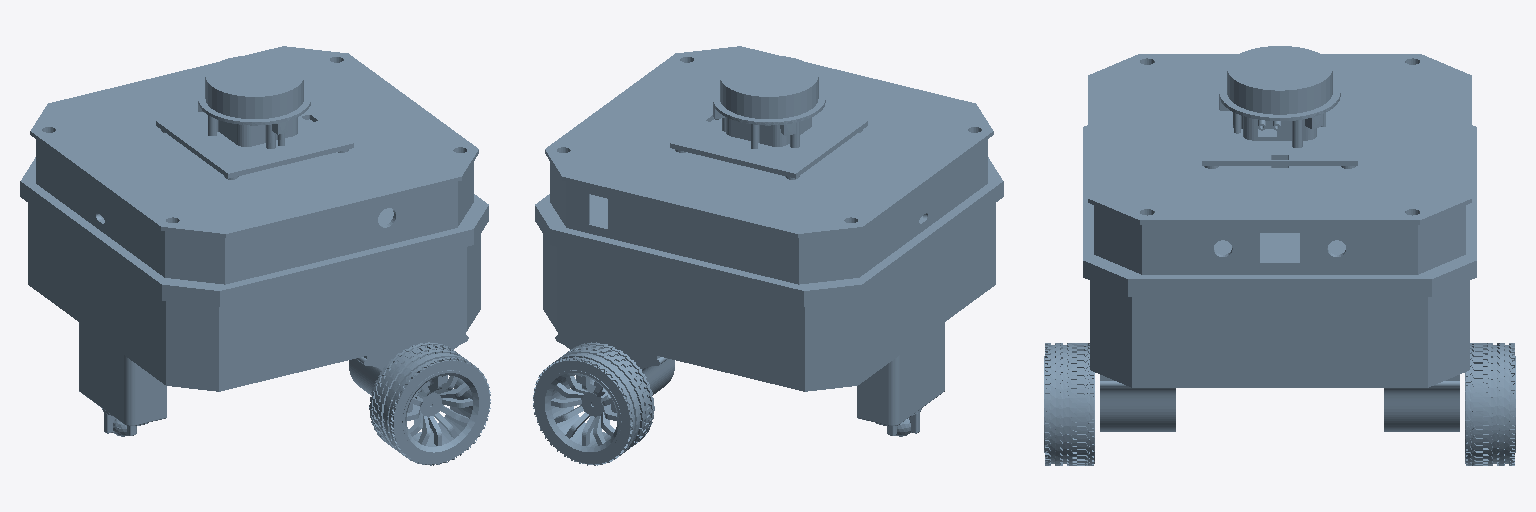
The robot description file, URDF, robot "auto_dir":
<?xml version="1.0"?>
<!-- auto_dir: generated by URDF Forge 2026-11-26T15:17:13.405Z
     Target: ROS 2 Jazzy · Gazebo Harmonic
     REP 103: Z-up, metres, kilograms, radians. -->
<robot name="auto_dir">
  <material name="default"><color rgba="0.56 0.65 0.73 1"/></material>

  <link name="Octagonal_inspection_chassis">
    <inertial>
      <origin xyz="-0.00000554286 0.00002933278 -0.01421982468" rpy="0 0 0"/>
      <mass value="0.30936684924947399"/>
      <inertia ixx="0.0015275418177565920410156" ixy="-0.0000008571532577619526386" ixz="-0.0000002265495691636525989" iyy="0.0016575954131242353515625" iyz="0.0000001203555851159259528" izz="0.0029549417436531005859375"/>
    </inertial>
    <visual name="Octagonal_inspection_chassis_visual">
      <origin xyz="0 0 -0.047" rpy="0 0 0"/>
      <geometry><mesh filename="package://auto_dir_description/meshes/Octagonal_inspection_chassis.stl" scale="0.001 0.001 0.001"/></geometry>
      <material name="default"/>
    </visual>
    <collision name="Octagonal_inspection_chassis_collision">
      <origin xyz="0 0 0" rpy="0 0 0"/>
      <geometry><box size="0.206 0.2 0.062"/></geometry>
    </collision>
  </link>

  <link name="Octagonal_service_cover_with_projecting_roof_edge">
    <inertial>
      <origin xyz="-0.00129910941 -0.00046143565 0.00852465101" rpy="0 0 0"/>
      <mass value="0.16927888964498931"/>
      <inertia ixx="0.0007426952700377515869141" ixy="0.000005208195678570148468" ixz="-0.0000019512042894255459309" iyy="0.0007931072218634862060547" iyz="-0.0000008478865311748096943" izz="0.0015021906635568205566406"/>
    </inertial>
    <visual name="Octagonal_service_cover_with_projecting_roof_edge_visual">
      <origin xyz="0 0 -0.0975" rpy="0 0 0"/>
      <geometry><mesh filename="package://auto_dir_description/meshes/Octagonal_service_cover_with_projecting_roof_edge.stl" scale="0.001 0.001 0.001"/></geometry>
      <material name="default"/>
    </visual>
    <collision name="Octagonal_service_cover_with_projecting_roof_edge_collision">
      <origin xyz="0 0 0" rpy="0 0 0"/>
      <geometry><box size="0.208 0.202 0.033"/></geometry>
    </collision>
  </link>
  <joint name="Octagonal_service_cover_with_projecting_roof_edge_joint" type="fixed">
    <parent link="Octagonal_inspection_chassis"/>
    <child link="Octagonal_service_cover_with_projecting_roof_edge"/>
    <origin xyz="0 0 0.0505" rpy="0 0 0"/>
  </joint>

  <link name="Octagonal_deck_with_overlapping_drip_skirt">
    <inertial>
      <origin xyz="-0.00200911969 0 -0.00098056889" rpy="0 0 0"/>
      <mass value="0.15026572302505878"/>
      <inertia ixx="0.0005690116258245833740234" ixy="0.0000000000000000000029196" ixz="0.0000012917236011896309853" iyy="0.0006247117414282354736328" iyz="0.0000000000000000000004923" izz="0.0011923654385640375976563"/>
    </inertial>
    <visual name="Octagonal_deck_with_overlapping_drip_skirt_visual">
      <origin xyz="0 0 -0.08" rpy="0 0 0"/>
      <geometry><mesh filename="package://auto_dir_description/meshes/Octagonal_deck_with_overlapping_drip_skirt.stl" scale="0.001 0.001 0.001"/></geometry>
      <material name="default"/>
    </visual>
    <collision name="Octagonal_deck_with_overlapping_drip_skirt_collision">
      <origin xyz="0 0 0" rpy="0 0 0"/>
      <geometry><box size="0.214 0.208 0.018"/></geometry>
    </collision>
  </link>
  <joint name="Octagonal_deck_with_overlapping_drip_skirt_joint" type="fixed">
    <parent link="Octagonal_inspection_chassis"/>
    <child link="Octagonal_deck_with_overlapping_drip_skirt"/>
    <origin xyz="0 0 0.033" rpy="0 0 0"/>
  </joint>

  <link name="_mm_wheel_left_layout">
    <inertial>
      <origin xyz="0.00000159847 -0.00013373383 -0.00000004672" rpy="0 0 0"/>
      <mass value="0.04755457729835925"/>
      <inertia ixx="0.0000194808089655183944702" ixy="-0.0000000001446657646665155" ixz="-0.0000000000294143313422865" iyy="0.0000338747148996596412659" iyz="0.0000000000037501877010495" izz="0.0000194823515448866081238"/>
    </inertial>
    <visual name="_mm_wheel_left_layout_visual">
      <origin xyz="-0.05079001427 -0.111 0.01800000048" rpy="0 0 0"/>
      <geometry><mesh filename="package://auto_dir_description/meshes/_mm_wheel_left_layout.stl" scale="0.001 0.001 0.001"/></geometry>
      <material name="default"/>
    </visual>
    <collision name="_mm_wheel_left_layout_collision">
      <origin xyz="0 0 0" rpy="0 0 0"/>
      <geometry><box size="0.06499992371 0.0263999939 0.06499986267"/></geometry>
    </collision>
  </link>
  <joint name="_mm_wheel_left_layout_joint" type="fixed">
    <parent link="Octagonal_inspection_chassis"/>
    <child link="_mm_wheel_left_layout"/>
    <origin xyz="0.05079001427 0.111 -0.06500000048" rpy="3.14159265359 0 0"/>
  </joint>

  <link name="_mm_wheel_right_layout">
    <inertial>
      <origin xyz="-0.00000158645 0.00013373103 -0.00000005211" rpy="0 0 0"/>
      <mass value="0.04755455974073744"/>
      <inertia ixx="0.0000194808016947012405396" ixy="-0.0000000001486557639223421" ixz="0.0000000000220590386899883" iyy="0.0000338746969471223640442" iyz="-0.0000000000035285423048459" izz="0.0000194823343623401184082"/>
    </inertial>
    <visual name="_mm_wheel_right_layout_visual">
      <origin xyz="-0.05078998375 0.111 0.01800000048" rpy="0 0 0"/>
      <geometry><mesh filename="package://auto_dir_description/meshes/_mm_wheel_right_layout.stl" scale="0.001 0.001 0.001"/></geometry>
      <material name="default"/>
    </visual>
    <collision name="_mm_wheel_right_layout_collision">
      <origin xyz="0 0 0" rpy="0 0 0"/>
      <geometry><box size="0.06499992371 0.0263999939 0.06499986267"/></geometry>
    </collision>
  </link>
  <joint name="_mm_wheel_right_layout_joint" type="fixed">
    <parent link="Octagonal_inspection_chassis"/>
    <child link="_mm_wheel_right_layout"/>
    <origin xyz="0.05078998375 -0.111 -0.06500000048" rpy="3.14159265359 0 0"/>
  </joint>

  <link name="v3_style_caster_mount_fitted_to_W420">
    <inertial>
      <origin xyz="-0.00446936527 -0.00000047946 -0.00249669009" rpy="0 0 0"/>
      <mass value="0.02681154632636261"/>
      <inertia ixx="0.00001677957531883842659" ixy="0.0000000000411198444392437" ixz="-0.0000002228066650569467247" iyy="0.0000083618485028976192474" iyz="0.0000000002761818969360901" izz="0.0000131941930643010997772"/>
    </inertial>
    <visual name="v3_style_caster_mount_fitted_to_W420_visual">
      <origin xyz="0.0825 0 0.00725" rpy="0 0 0"/>
      <geometry><mesh filename="package://auto_dir_description/meshes/v3_style_caster_mount_fitted_to_W420.stl" scale="0.001 0.001 0.001"/></geometry>
      <material name="default"/>
    </visual>
    <collision name="v3_style_caster_mount_fitted_to_W420_collision">
      <origin xyz="0 0 0" rpy="0 0 0"/>
      <geometry><box size="0.035 0.07992708588 0.0465"/></geometry>
    </collision>
  </link>
  <joint name="v3_style_caster_mount_fitted_to_W420_joint" type="fixed">
    <parent link="Octagonal_inspection_chassis"/>
    <child link="v3_style_caster_mount_fitted_to_W420"/>
    <origin xyz="-0.0825 0 -0.05425" rpy="0 0 0"/>
  </joint>

  <link name="BIN_02_MotorMount_FL">
    <inertial>
      <origin xyz="0.00001745932 0.00256807228 0.00950233141" rpy="0 0 0"/>
      <mass value="0.02595858576240427"/>
      <inertia ixx="0.0000101389608900474872589" ixy="0.0000000239817829555799775" ixz="-0.0000000405269808292094991" iyy="0.0000150930304197687034607" iyz="0.0000004510349922045432925" izz="0.0000131000632702314090729"/>
    </inertial>
    <visual name="BIN_02_MotorMount_FL_visual">
      <origin xyz="-0.05078729248 -0.075 0.008" rpy="0 0 0"/>
      <geometry><mesh filename="package://auto_dir_description/meshes/BIN_02_MotorMount_FL.stl" scale="0.001 0.001 0.001"/></geometry>
      <material name="default"/>
    </visual>
    <collision name="BIN_02_MotorMount_FL_collision">
      <origin xyz="0 0 0" rpy="0 0 0"/>
      <geometry><box size="0.06846034241 0.04 0.048"/></geometry>
    </collision>
  </link>
  <joint name="BIN_02_MotorMount_FL_joint" type="fixed">
    <parent link="Octagonal_inspection_chassis"/>
    <child link="BIN_02_MotorMount_FL"/>
    <origin xyz="0.05078729248 0.075 -0.055" rpy="0 0 0"/>
  </joint>

  <link name="BIN_03_MotorMount_FR">
    <inertial>
      <origin xyz="0.00001743522 -0.00256807674 0.00950232441" rpy="0 0 0"/>
      <mass value="0.02595856654452845"/>
      <inertia ixx="0.0000101389567357752113342" ixy="-0.0000000239780243483303934" ixz="-0.0000000405210621099019498" iyy="0.0000150930083332885837555" iyz="-0.0000004510338943418180346" izz="0.0000131000404697086524963"/>
    </inertial>
    <visual name="BIN_03_MotorMount_FR_visual">
      <origin xyz="-0.05078729248 0.075 0.008" rpy="0 0 0"/>
      <geometry><mesh filename="package://auto_dir_description/meshes/BIN_03_MotorMount_FR.stl" scale="0.001 0.001 0.001"/></geometry>
      <material name="default"/>
    </visual>
    <collision name="BIN_03_MotorMount_FR_collision">
      <origin xyz="0 0 0" rpy="0 0 0"/>
      <geometry><box size="0.06846034241 0.04 0.048"/></geometry>
    </collision>
  </link>
  <joint name="BIN_03_MotorMount_FR_joint" type="fixed">
    <parent link="Octagonal_inspection_chassis"/>
    <child link="BIN_03_MotorMount_FR"/>
    <origin xyz="0.05078729248 -0.075 -0.055" rpy="0 0 0"/>
  </joint>

  <link name="Dreame_LDS_plate_supplied_STEP_hole_pattern">
    <inertial>
      <origin xyz="-0.00031333239 0.00000530452 0.0009565053" rpy="0 0 0"/>
      <mass value="0.02020676153403697"/>
      <inertia ixx="0.0000117051179141720485687" ixy="-0.0000000006354318032607735" ixz="0.0000000002753837853661744" iyy="0.0000114758778723590869904" iyz="-0.0000000000046620735174462" izz="0.0000231465569217335929871"/>
    </inertial>
    <visual name="Dreame_LDS_plate_supplied_STEP_hole_pattern_visual">
      <origin xyz="0 0 -0.1165" rpy="0 0 0"/>
      <geometry><mesh filename="package://auto_dir_description/meshes/Dreame_LDS_plate_supplied_STEP_hole_pattern.stl" scale="0.001 0.001 0.001"/></geometry>
      <material name="default"/>
    </visual>
    <collision name="Dreame_LDS_plate_supplied_STEP_hole_pattern_collision">
      <origin xyz="0 0 0" rpy="0 0 0"/>
      <geometry><box size="0.082 0.082 0.005"/></geometry>
    </collision>
  </link>
  <joint name="Dreame_LDS_plate_supplied_STEP_hole_pattern_joint" type="fixed">
    <parent link="Octagonal_inspection_chassis"/>
    <child link="Dreame_LDS_plate_supplied_STEP_hole_pattern"/>
    <origin xyz="0 0 0.0695" rpy="0 0 0"/>
  </joint>

  <link name="DreameLDS_2">
    <inertial>
      <origin xyz="0.00004003593 0.00003613687 0.00480679969" rpy="0 0 0"/>
      <mass value="0.01297456150585137"/>
      <inertia ixx="0.0000037502812278656525612" ixy="0.0000000275142756269324832" ixz="-0.0000000123901746740924418" iyy="0.0000036076791812356915474" iyz="-0.0000000006154125194230946" izz="0.0000064798245910357818604"/>
    </inertial>
    <visual name="DreameLDS_2_visual">
      <origin xyz="0 -0.00000540829 -0.1295" rpy="0 0 0"/>
      <geometry><mesh filename="package://auto_dir_description/meshes/DreameLDS_2.stl" scale="0.001 0.001 0.001"/></geometry>
      <material name="default"/>
    </visual>
    <collision name="DreameLDS_2_collision">
      <origin xyz="0 0 0" rpy="0 0 0"/>
      <geometry><box size="0.064 0.06398907471 0.021"/></geometry>
    </collision>
  </link>
  <joint name="DreameLDS_2_joint" type="fixed">
    <parent link="Octagonal_inspection_chassis"/>
    <child link="DreameLDS_2"/>
    <origin xyz="0 0.00000540829 0.0825" rpy="0 0 0"/>
  </joint>

  <link name="DreameLDS">
    <inertial>
      <origin xyz="0.00000535594 0.00008846231 0.00374476042" rpy="0 0 0"/>
      <mass value="0.0115617235327449"/>
      <inertia ixx="0.000003992651519761654377" ixy="-0.0000000008492714767369871" ixz="0.0000000001293879438642974" iyy="0.0000039317425243925905228" iyz="0.0000000124692575262069814" izz="0.000007064336355787569046"/>
    </inertial>
    <visual name="DreameLDS_visual">
      <origin xyz="0 -0.00000540733 -0.1435" rpy="0 0 0"/>
      <geometry><mesh filename="package://auto_dir_description/meshes/DreameLDS.stl" scale="0.001 0.001 0.001"/></geometry>
      <material name="default"/>
    </visual>
    <collision name="DreameLDS_collision">
      <origin xyz="0 0 0" rpy="0 0 0"/>
      <geometry><box size="0.064 0.06398907089 0.021"/></geometry>
    </collision>
  </link>
  <joint name="DreameLDS_joint" type="fixed">
    <parent link="Octagonal_inspection_chassis"/>
    <child link="DreameLDS"/>
    <origin xyz="0 0.00000540733 0.0965" rpy="0 0 0"/>
  </joint>

  <link name="W420_ball_caster_supplied_STEP">
    <inertial>
      <origin xyz="-0.00000014914 0.00000017374 0.00408880463" rpy="0 0 0"/>
      <mass value="0.00358801429357459"/>
      <inertia ixx="0.000000451329462358109355" ixy="-0.0000000000000473457217138" ixz="-0.0000000000038916102763556" iyy="0.0000001773883506159245372" iyz="0.0000000000040970966726912" izz="0.000000523953131154607594"/>
    </inertial>
    <visual name="W420_ball_caster_supplied_STEP_visual">
      <origin xyz="0.086 0 0.0382299614" rpy="0 0 0"/>
      <geometry><mesh filename="package://auto_dir_description/meshes/W420_ball_caster_supplied_STEP.stl" scale="0.001 0.001 0.001"/></geometry>
      <material name="default"/>
    </visual>
    <collision name="W420_ball_caster_supplied_STEP_collision">
      <origin xyz="0 0 0" rpy="0 0 0"/>
      <geometry><box size="0.02443623352 0.05070000076 0.01545999908"/></geometry>
    </collision>
  </link>
  <joint name="W420_ball_caster_supplied_STEP_joint" type="fixed">
    <parent link="Octagonal_inspection_chassis"/>
    <child link="W420_ball_caster_supplied_STEP"/>
    <origin xyz="-0.086 0 -0.0852299614" rpy="0 0 0"/>
  </joint>

  <link name="W420_ball_caster_supplied_STEP_2">
    <inertial>
      <origin xyz="0 0 0.00000000027" rpy="0 0 0"/>
      <mass value="0.00198814060857785"/>
      <inertia ixx="0.0000000485361490682027638" ixy="0.0000000000347310541706769" ixz="0" iyy="0.0000000484915568371195719" iyz="-0.0000000000000000000000001" izz="0.000000048157810220600605"/>
    </inertial>
    <visual name="W420_ball_caster_supplied_STEP_2_visual">
      <origin xyz="0.086 0 0.04259996223" rpy="0 0 0"/>
      <geometry><mesh filename="package://auto_dir_description/meshes/W420_ball_caster_supplied_STEP_2.stl" scale="0.001 0.001 0.001"/></geometry>
      <material name="default"/>
    </visual>
    <collision name="W420_ball_caster_supplied_STEP_2_collision">
      <origin xyz="0 0 0" rpy="0 0 0"/>
      <geometry><box size="0.01579347229 0.01579346561 0.01579999924"/></geometry>
    </collision>
  </link>
  <joint name="W420_ball_caster_supplied_STEP_2_joint" type="fixed">
    <parent link="Octagonal_inspection_chassis"/>
    <child link="W420_ball_caster_supplied_STEP_2"/>
    <origin xyz="-0.086 0 -0.08959996223" rpy="0 0 0"/>
  </joint>

  <!-- Simulator: Gazebo Harmonic -->
  <gazebo reference="Octagonal_inspection_chassis">
    <mu1>0.8</mu1>
    <mu2>0.8</mu2>
    <kp>1000000</kp>
    <kd>100</kd>
    <minDepth>0.001</minDepth>
    <maxVel>0.01</maxVel>
    <selfCollide>false</selfCollide>
    <visual>
      <material>
        <ambient>0.56 0.65 0.73 1</ambient>
        <diffuse>0.56 0.65 0.73 1</diffuse>
        <specular>0.1 0.1 0.1 1</specular>
        <pbr><metal><metalness>0.15</metalness><roughness>0.55</roughness></metal></pbr>
      </material>
    </visual>
  </gazebo>
  <gazebo reference="Octagonal_service_cover_with_projecting_roof_edge">
    <mu1>0.8</mu1>
    <mu2>0.8</mu2>
    <kp>1000000</kp>
    <kd>100</kd>
    <minDepth>0.001</minDepth>
    <maxVel>0.01</maxVel>
    <selfCollide>false</selfCollide>
    <visual>
      <material>
        <ambient>0.56 0.65 0.73 1</ambient>
        <diffuse>0.56 0.65 0.73 1</diffuse>
        <specular>0.1 0.1 0.1 1</specular>
        <pbr><metal><metalness>0.15</metalness><roughness>0.55</roughness></metal></pbr>
      </material>
    </visual>
  </gazebo>
  <gazebo reference="Octagonal_deck_with_overlapping_drip_skirt">
    <mu1>0.8</mu1>
    <mu2>0.8</mu2>
    <kp>1000000</kp>
    <kd>100</kd>
    <minDepth>0.001</minDepth>
    <maxVel>0.01</maxVel>
    <selfCollide>false</selfCollide>
    <visual>
      <material>
        <ambient>0.56 0.65 0.73 1</ambient>
        <diffuse>0.56 0.65 0.73 1</diffuse>
        <specular>0.1 0.1 0.1 1</specular>
        <pbr><metal><metalness>0.15</metalness><roughness>0.55</roughness></metal></pbr>
      </material>
    </visual>
  </gazebo>
  <gazebo reference="_mm_wheel_left_layout">
    <mu1>0.8</mu1>
    <mu2>0.8</mu2>
    <kp>1000000</kp>
    <kd>100</kd>
    <minDepth>0.001</minDepth>
    <maxVel>0.01</maxVel>
    <selfCollide>false</selfCollide>
    <visual>
      <material>
        <ambient>0.56 0.65 0.73 1</ambient>
        <diffuse>0.56 0.65 0.73 1</diffuse>
        <specular>0.1 0.1 0.1 1</specular>
        <pbr><metal><metalness>0.15</metalness><roughness>0.55</roughness></metal></pbr>
      </material>
    </visual>
  </gazebo>
  <gazebo reference="_mm_wheel_right_layout">
    <mu1>0.8</mu1>
    <mu2>0.8</mu2>
    <kp>1000000</kp>
    <kd>100</kd>
    <minDepth>0.001</minDepth>
    <maxVel>0.01</maxVel>
    <selfCollide>false</selfCollide>
    <visual>
      <material>
        <ambient>0.56 0.65 0.73 1</ambient>
        <diffuse>0.56 0.65 0.73 1</diffuse>
        <specular>0.1 0.1 0.1 1</specular>
        <pbr><metal><metalness>0.15</metalness><roughness>0.55</roughness></metal></pbr>
      </material>
    </visual>
  </gazebo>
  <gazebo reference="v3_style_caster_mount_fitted_to_W420">
    <mu1>0.8</mu1>
    <mu2>0.8</mu2>
    <kp>1000000</kp>
    <kd>100</kd>
    <minDepth>0.001</minDepth>
    <maxVel>0.01</maxVel>
    <selfCollide>false</selfCollide>
    <visual>
      <material>
        <ambient>0.56 0.65 0.73 1</ambient>
        <diffuse>0.56 0.65 0.73 1</diffuse>
        <specular>0.1 0.1 0.1 1</specular>
        <pbr><metal><metalness>0.15</metalness><roughness>0.55</roughness></metal></pbr>
      </material>
    </visual>
  </gazebo>
  <gazebo reference="BIN_02_MotorMount_FL">
    <mu1>0.8</mu1>
    <mu2>0.8</mu2>
    <kp>1000000</kp>
    <kd>100</kd>
    <minDepth>0.001</minDepth>
    <maxVel>0.01</maxVel>
    <selfCollide>false</selfCollide>
    <visual>
      <material>
        <ambient>0.56 0.65 0.73 1</ambient>
        <diffuse>0.56 0.65 0.73 1</diffuse>
        <specular>0.1 0.1 0.1 1</specular>
        <pbr><metal><metalness>0.15</metalness><roughness>0.55</roughness></metal></pbr>
      </material>
    </visual>
  </gazebo>
  <gazebo reference="BIN_03_MotorMount_FR">
    <mu1>0.8</mu1>
    <mu2>0.8</mu2>
    <kp>1000000</kp>
    <kd>100</kd>
    <minDepth>0.001</minDepth>
    <maxVel>0.01</maxVel>
    <selfCollide>false</selfCollide>
    <visual>
      <material>
        <ambient>0.56 0.65 0.73 1</ambient>
        <diffuse>0.56 0.65 0.73 1</diffuse>
        <specular>0.1 0.1 0.1 1</specular>
        <pbr><metal><metalness>0.15</metalness><roughness>0.55</roughness></metal></pbr>
      </material>
    </visual>
  </gazebo>
  <gazebo reference="Dreame_LDS_plate_supplied_STEP_hole_pattern">
    <mu1>0.8</mu1>
    <mu2>0.8</mu2>
    <kp>1000000</kp>
    <kd>100</kd>
    <minDepth>0.001</minDepth>
    <maxVel>0.01</maxVel>
    <selfCollide>false</selfCollide>
    <visual>
      <material>
        <ambient>0.56 0.65 0.73 1</ambient>
        <diffuse>0.56 0.65 0.73 1</diffuse>
        <specular>0.1 0.1 0.1 1</specular>
        <pbr><metal><metalness>0.15</metalness><roughness>0.55</roughness></metal></pbr>
      </material>
    </visual>
  </gazebo>
  <gazebo reference="DreameLDS_2">
    <mu1>0.8</mu1>
    <mu2>0.8</mu2>
    <kp>1000000</kp>
    <kd>100</kd>
    <minDepth>0.001</minDepth>
    <maxVel>0.01</maxVel>
    <selfCollide>false</selfCollide>
    <visual>
      <material>
        <ambient>0.56 0.65 0.73 1</ambient>
        <diffuse>0.56 0.65 0.73 1</diffuse>
        <specular>0.1 0.1 0.1 1</specular>
        <pbr><metal><metalness>0.15</metalness><roughness>0.55</roughness></metal></pbr>
      </material>
    </visual>
  </gazebo>
  <gazebo reference="DreameLDS">
    <mu1>0.8</mu1>
    <mu2>0.8</mu2>
    <kp>1000000</kp>
    <kd>100</kd>
    <minDepth>0.001</minDepth>
    <maxVel>0.01</maxVel>
    <selfCollide>false</selfCollide>
    <visual>
      <material>
        <ambient>0.56 0.65 0.73 1</ambient>
        <diffuse>0.56 0.65 0.73 1</diffuse>
        <specular>0.1 0.1 0.1 1</specular>
        <pbr><metal><metalness>0.15</metalness><roughness>0.55</roughness></metal></pbr>
      </material>
    </visual>
  </gazebo>
  <gazebo reference="W420_ball_caster_supplied_STEP">
    <mu1>0.8</mu1>
    <mu2>0.8</mu2>
    <kp>1000000</kp>
    <kd>100</kd>
    <minDepth>0.001</minDepth>
    <maxVel>0.01</maxVel>
    <selfCollide>false</selfCollide>
    <visual>
      <material>
        <ambient>0.56 0.65 0.73 1</ambient>
        <diffuse>0.56 0.65 0.73 1</diffuse>
        <specular>0.1 0.1 0.1 1</specular>
        <pbr><metal><metalness>0.15</metalness><roughness>0.55</roughness></metal></pbr>
      </material>
    </visual>
  </gazebo>
  <gazebo reference="W420_ball_caster_supplied_STEP_2">
    <mu1>0.8</mu1>
    <mu2>0.8</mu2>
    <kp>1000000</kp>
    <kd>100</kd>
    <minDepth>0.001</minDepth>
    <maxVel>0.01</maxVel>
    <selfCollide>false</selfCollide>
    <visual>
      <material>
        <ambient>0.56 0.65 0.73 1</ambient>
        <diffuse>0.56 0.65 0.73 1</diffuse>
        <specular>0.1 0.1 0.1 1</specular>
        <pbr><metal><metalness>0.15</metalness><roughness>0.55</roughness></metal></pbr>
      </material>
    </visual>
  </gazebo>
</robot>

--- Render facts (derived) ---
Views: 3 orthographic renders of the robot side by side, from view 1: azimuth 30°, elevation 25°; view 2: azimuth 150°, elevation 25°; view 3: azimuth 270°, elevation 25°.
Robot: auto_dir — 13 links, 12 joints (12 fixed); root link Octagonal_inspection_chassis; default pose: all joints at 0.
Links seen in each view (by area): view 1: Octagonal_service_cover_with_projecting_roof_edge, Octagonal_inspection_chassis, Octagonal_deck_with_overlapping_drip_skirt, _mm_wheel_right_layout, Dreame_LDS_plate_supplied_STEP_hole_pattern, DreameLDS, v3_style_caster_mount_fitted_to_W420, DreameLDS_2, BIN_03_MotorMount_FR; view 2: Octagonal_service_cover_with_projecting_roof_edge, Octagonal_inspection_chassis, Octagonal_deck_with_overlapping_drip_skirt, _mm_wheel_left_layout, DreameLDS, Dreame_LDS_plate_supplied_STEP_hole_pattern, v3_style_caster_mount_fitted_to_W420, DreameLDS_2, BIN_02_MotorMount_FL; view 3: Octagonal_service_cover_with_projecting_roof_edge, Octagonal_inspection_chassis, Octagonal_deck_with_overlapping_drip_skirt, DreameLDS, Dreame_LDS_plate_supplied_STEP_hole_pattern, _mm_wheel_left_layout, _mm_wheel_right_layout, BIN_02_MotorMount_FL, BIN_03_MotorMount_FR, DreameLDS_2.
Boxes of the visible links, x1,y1,x2,y2 form: Octagonal_service_cover_with_projecting_roof_edge: (30, 46, 478, 284); Octagonal_inspection_chassis: (28, 203, 480, 391); Octagonal_deck_with_overlapping_drip_skirt: (20, 157, 488, 306); _mm_wheel_right_layout: (369, 342, 490, 465); Dreame_LDS_plate_supplied_STEP_hole_pattern: (156, 110, 353, 179); DreameLDS: (198, 55, 310, 130); v3_style_caster_mount_fitted_to_W420: (79, 322, 166, 425); DreameLDS_2: (198, 87, 310, 148); BIN_03_MotorMount_FR: (349, 332, 468, 412); Octagonal_service_cover_with_projecting_roof_edge: (545, 46, 993, 284); Octagonal_inspection_chassis: (543, 203, 995, 391); Octagonal_deck_with_overlapping_drip_skirt: (535, 157, 1003, 306); _mm_wheel_left_layout: (533, 342, 654, 465); DreameLDS: (713, 55, 825, 131); Dreame_LDS_plate_supplied_STEP_hole_pattern: (670, 110, 867, 179); v3_style_caster_mount_fitted_to_W420: (857, 322, 944, 425); DreameLDS_2: (713, 91, 825, 148); BIN_02_MotorMount_FL: (555, 332, 674, 412); Octagonal_service_cover_with_projecting_roof_edge: (1088, 54, 1471, 274); Octagonal_inspection_chassis: (1090, 281, 1469, 387); Octagonal_deck_with_overlapping_drip_skirt: (1083, 125, 1476, 296); DreameLDS: (1219, 46, 1340, 124); Dreame_LDS_plate_supplied_STEP_hole_pattern: (1202, 96, 1357, 168); _mm_wheel_left_layout: (1465, 343, 1515, 465); _mm_wheel_right_layout: (1044, 343, 1094, 465); BIN_02_MotorMount_FL: (1384, 375, 1459, 431); BIN_03_MotorMount_FR: (1100, 375, 1175, 431); DreameLDS_2: (1219, 80, 1340, 147).
Size in the robot's own frame: 0.214 by 0.2484 by 0.2045 metres.
Meshes: 13 distinct files referenced, 13 mesh visuals loaded (13 binary STL).
